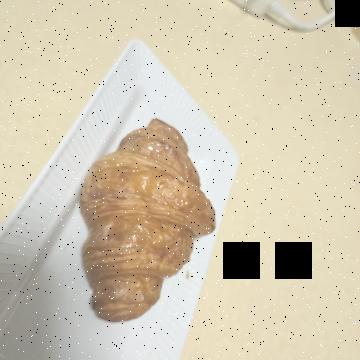croissant: (103, 136, 328, 290)
